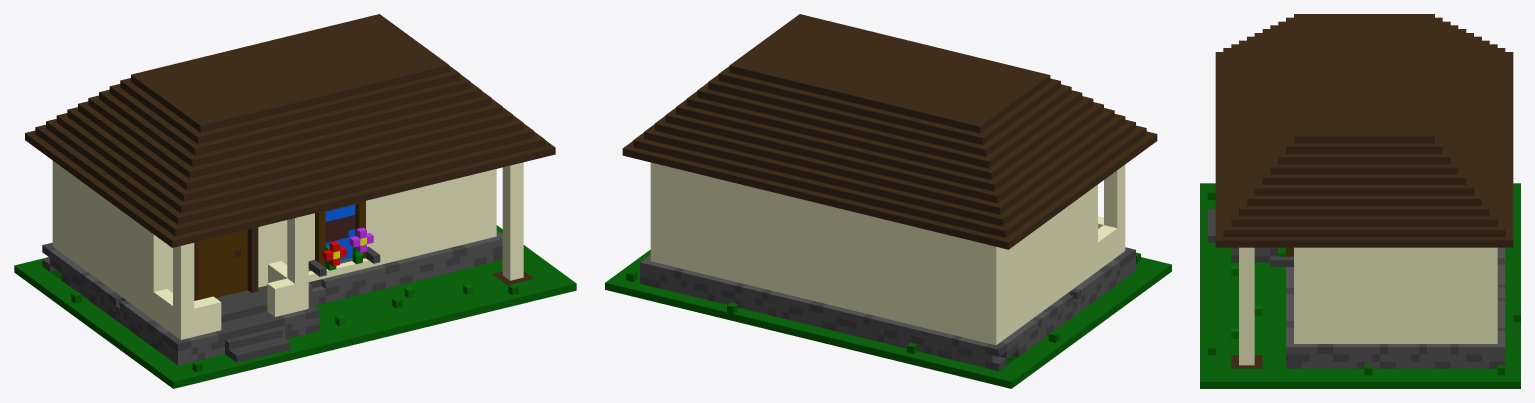
Rendered from casa.obj.
The picture shows the model from 3 angles, left to right: view 1: azimuth 30°, elevation 25°; view 2: azimuth 150°, elevation 25°; view 3: azimuth 270°, elevation 25°; orthographic projection.
Size of the model in its own units: 6 by 3 by 4.1.
1 material, 1 textured.
